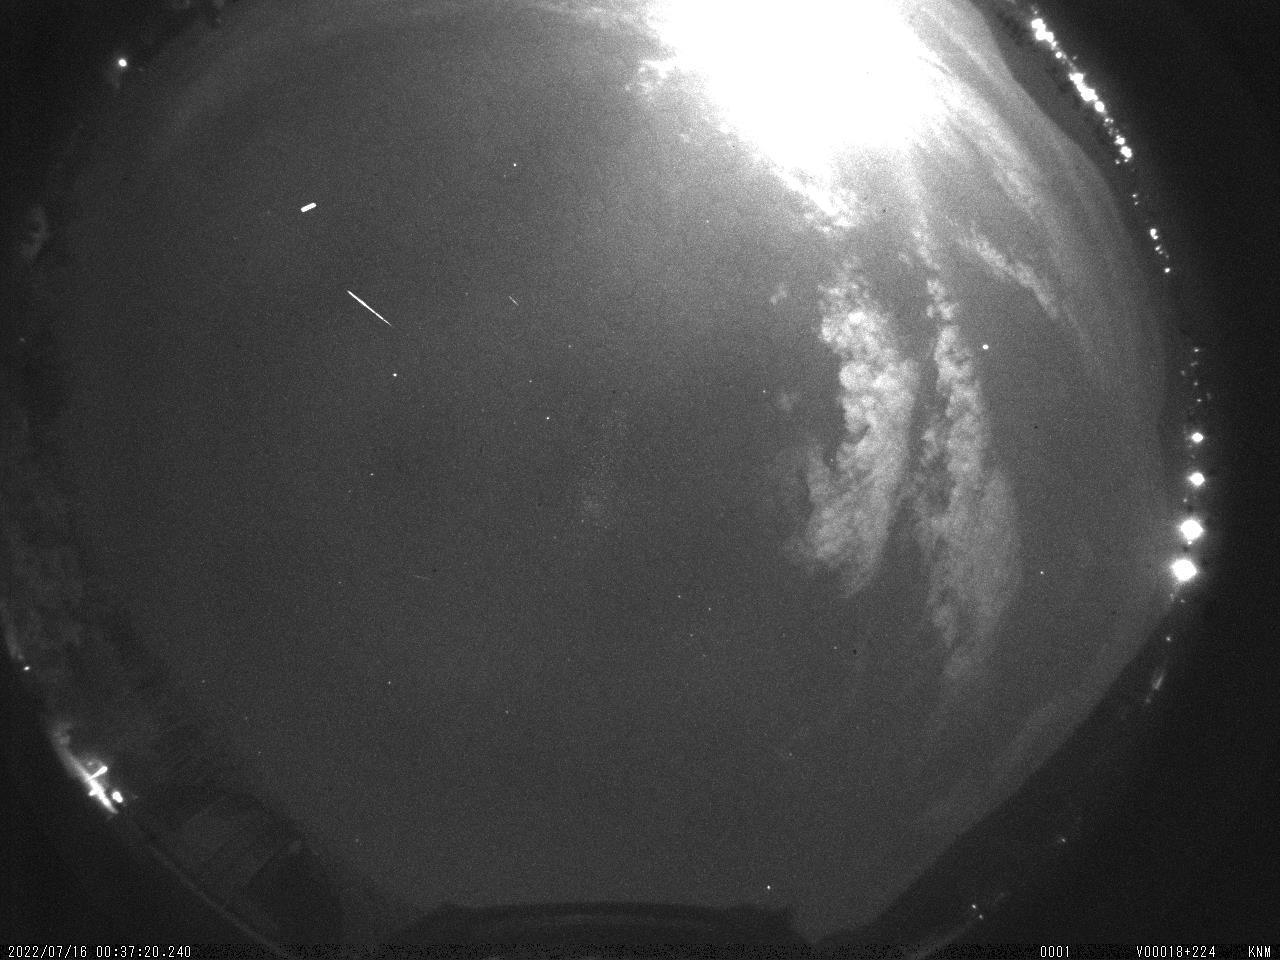Meteor: (343, 285, 395, 327)
